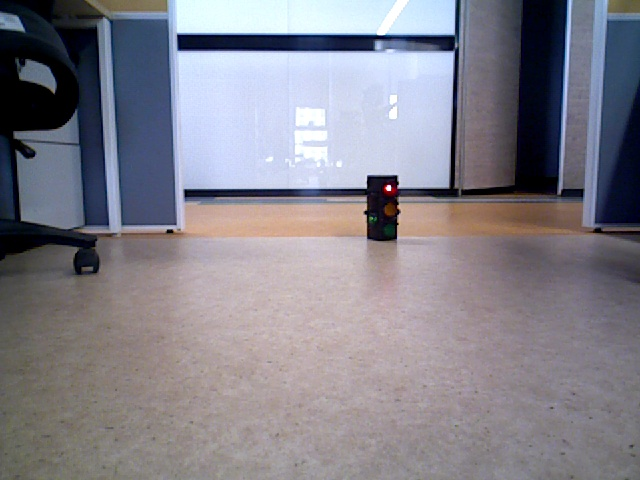red: (366, 176, 397, 238)
